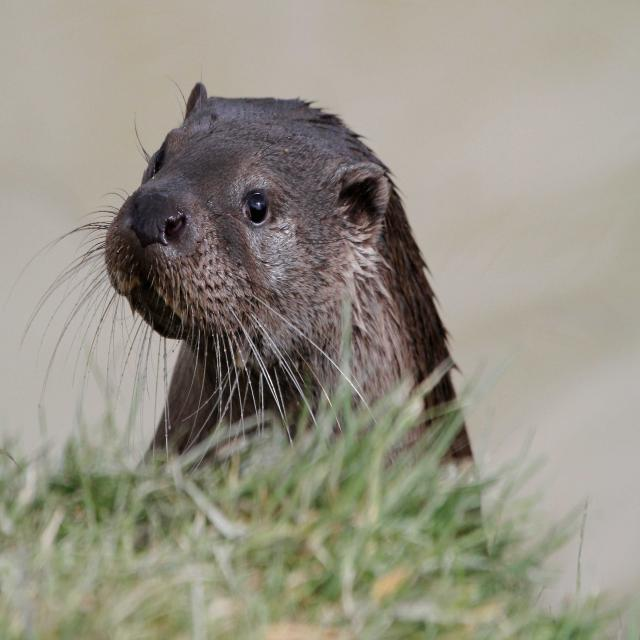otter: (106, 98, 453, 435)
